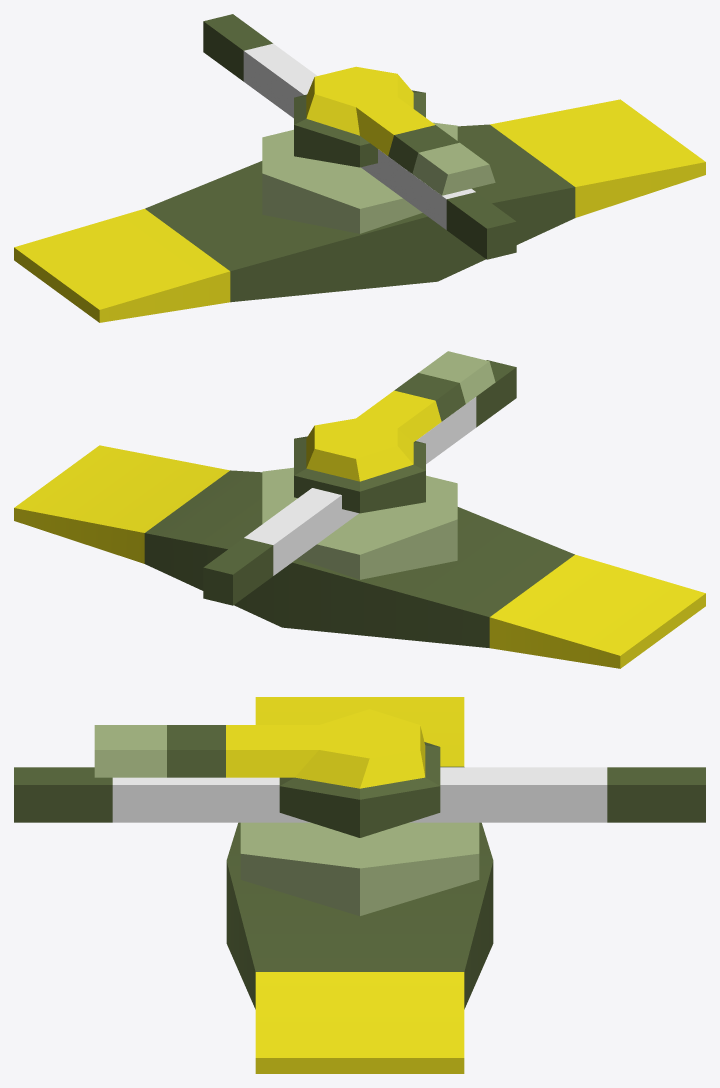
File: FighterPlane3.fbx
The picture shows the model from 3 angles, top to bottom: view 1: azimuth 30°, elevation 25°; view 2: azimuth 150°, elevation 25°; view 3: azimuth 270°, elevation 25°; orthographic projection. The views are drawn at different scales.
Parts seen in each view (by area): view 1: FighterPlan3, Cannon, Fan2; view 2: FighterPlan3, Cannon, Fan2; view 3: FighterPlan3, Fan2, Cannon.
Part boxes in pixels (<box>): FighterPlan3: <box>14,99,705,322</box>; Cannon: <box>294,66,495,195</box>; Fan2: <box>203,14,516,259</box>; FighterPlan3: <box>14,445,705,668</box>; Cannon: <box>294,351,495,513</box>; Fan2: <box>203,360,516,605</box>; FighterPlan3: <box>226,697,493,1073</box>; Fan2: <box>14,767,705,822</box>; Cannon: <box>94,709,440,837</box>.
Size of the model in its own units: 20.49 by 5.18 by 16.59.
